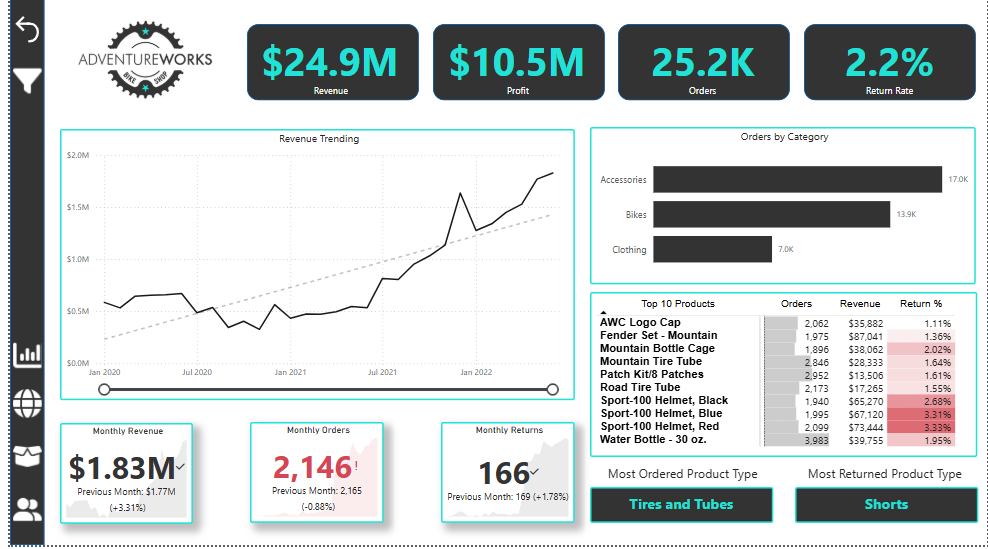

The dashboard page shown, as its layout file describes it:
{"tool":"powerbi","page":{"name":"Exec Dashboard","canvas":[1280,720],"ordinal":0},"visuals":[{"type":"card","fields":{"Values":["Measure table.Total Revenue"]},"box":[289.4,8.8,258.1,166.8],"z":0,"group":"g2"},{"type":"image","title":"AW Logo","box":[65.5,9.2,223.9,151.9],"z":0},{"type":"group","id":"g1","title":"KPI Backgrounds","box":[311,38.1,954.3,100],"z":0,"group":"g3"},{"type":"shape","box":[311,38.1,225,100],"z":0,"group":"g1"},{"type":"actionButton","box":[0,449.6,45.6,45.6],"z":0,"group":"g4"},{"type":"shape","title":"Left Nav Background","box":[0,0,45,720],"z":1000},{"type":"group","id":"g2","title":"kPI Values","box":[289.4,8.8,990.6,166.8],"z":1000,"group":"g3"},{"type":"card","fields":{"Values":["Measure table.Total Orders"]},"box":[777.7,8.8,258.1,166.8],"z":1000,"group":"g2"},{"type":"shape","box":[554.1,38.1,225,100],"z":1000,"group":"g1"},{"type":"actionButton","box":[0,581.8,45.6,45.6],"z":1000,"group":"g4"},{"type":"group","id":"g3","title":"KPIs","box":[289.4,8.8,990.6,369.5],"z":2000},{"type":"card","fields":{"Values":["Measure table.Return Rate"]},"box":[1021.8,8.8,258.1,166.8],"z":2000,"group":"g2"},{"type":"shape","box":[797.2,38.1,225,100],"z":2000,"group":"g1"},{"type":"clusteredBarChart","title":"Orders by Category","fields":{"Category":["Product Categories Lookup.CategoryName"],"Y":["Measure table.Total Orders"]},"box":[758.8,172.7,505.3,205.5],"z":2000,"group":"g3"},{"type":"actionButton","box":[0,650.9,45.6,45.6],"z":2000,"group":"g4"},{"type":"card","fields":{"Values":["Measure table.Total Profit"]},"box":[533.5,8.8,258.1,166.8],"z":3000,"group":"g2"},{"type":"shape","box":[1040.3,38.1,225,100],"z":3000,"group":"g1"},{"type":"lineChart","title":"Revenue Trending","fields":{"Y":["Measure table.Total Revenue"],"Category":["Calender Lookup.Year","Calender Lookup.Start of Quarter","Calender Lookup.Start of Month"]},"box":[65.5,175.4,674.2,354.8],"z":3000},{"type":"actionButton","box":[0,512.8,45.6,45.6],"z":3000,"group":"g4"},{"type":"kpi","title":"Monthly Revenue","fields":{"Indicator":["Measure table.Total Revenue"],"TrendLine":["Calender Lookup.Start of Month"],"Goal":["Measure table.Previous Month Revenue"]},"box":[65.5,560.3,174.1,132.2],"z":4000},{"type":"kpi","title":"Monthly Orders","fields":{"TrendLine":["Calender Lookup.Start of Month"],"Indicator":["Measure table.Total Orders"],"Goal":["Measure table.Previous Month Orders"]},"box":[314.2,559,175.4,132.2],"z":5000},{"type":"kpi","title":"Monthly Returns","fields":{"TrendLine":["Calender Lookup.Start of Month"],"Indicator":["Measure table.Total Return"],"Goal":["Measure table.Previous Month Return"]},"box":[564.2,559,175.4,132.2],"z":6000},{"type":"pivotTable","fields":{"Values":["Measure table.Total Orders","Measure table.Total Revenue","Measure table.Return Rate"],"Rows":["Product Lookup.ProductName"]},"box":[759.3,388.8,506.6,216],"z":7000},{"type":"card","fields":{"Values":["Min(Product Subcategories Lookup.SubcategoryName)"]},"box":[759.3,644.1,239.6,47.1],"z":8000},{"type":"textbox","box":[777.6,610,209.5,40.6],"z":9000},{"type":"card","fields":{"Values":["Min(Product Subcategories Lookup.SubcategoryName)"]},"box":[1027.6,644.1,239.6,47.1],"z":10000},{"type":"textbox","box":[1039.4,610,227.8,40.6],"z":11000},{"type":"actionButton","box":[0,20.6,45.6,48.5],"z":12000},{"type":"group","id":"g4","title":"Navigation Buttons","box":[0,449.6,45.6,246.9],"z":13000},{"type":"actionButton","box":[0,88.2,45.6,50],"z":15000}]}

Visuals, with their boxes on the page's 1280x720 design canvas (x1, y1, x2, y2). These are canvas units, not pixel positions in the 988x549 screenshot, which may show the page scaled, cropped or inside an application window:
card - Measure table.Total Revenue: region(289, 9, 548, 176)
"AW Logo" image: region(66, 9, 289, 161)
"KPI Backgrounds" group: region(311, 38, 1265, 138)
shape: region(311, 38, 536, 138)
actionButton: region(0, 450, 46, 495)
"Left Nav Background" shape: region(0, 0, 45, 720)
"kPI Values" group: region(289, 9, 1280, 176)
card - Measure table.Total Orders: region(778, 9, 1036, 176)
shape: region(554, 38, 779, 138)
actionButton: region(0, 582, 46, 627)
"KPIs" group: region(289, 9, 1280, 378)
card - Measure table.Return Rate: region(1022, 9, 1280, 176)
shape: region(797, 38, 1022, 138)
"Orders by Category" clusteredBarChart: region(759, 173, 1264, 378)
actionButton: region(0, 651, 46, 696)
card - Measure table.Total Profit: region(534, 9, 792, 176)
shape: region(1040, 38, 1265, 138)
"Revenue Trending" lineChart: region(66, 175, 740, 530)
actionButton: region(0, 513, 46, 558)
"Monthly Revenue" kpi: region(66, 560, 240, 692)
"Monthly Orders" kpi: region(314, 559, 490, 691)
"Monthly Returns" kpi: region(564, 559, 740, 691)
pivotTable - Measure table.Total Orders x Measure table.Total Revenue: region(759, 389, 1266, 605)
card - Min(Product Subcategories Lookup.SubcategoryName): region(759, 644, 999, 691)
textbox: region(778, 610, 987, 651)
card - Min(Product Subcategories Lookup.SubcategoryName): region(1028, 644, 1267, 691)
textbox: region(1039, 610, 1267, 651)
actionButton: region(0, 21, 46, 69)
"Navigation Buttons" group: region(0, 450, 46, 696)
actionButton: region(0, 88, 46, 138)
